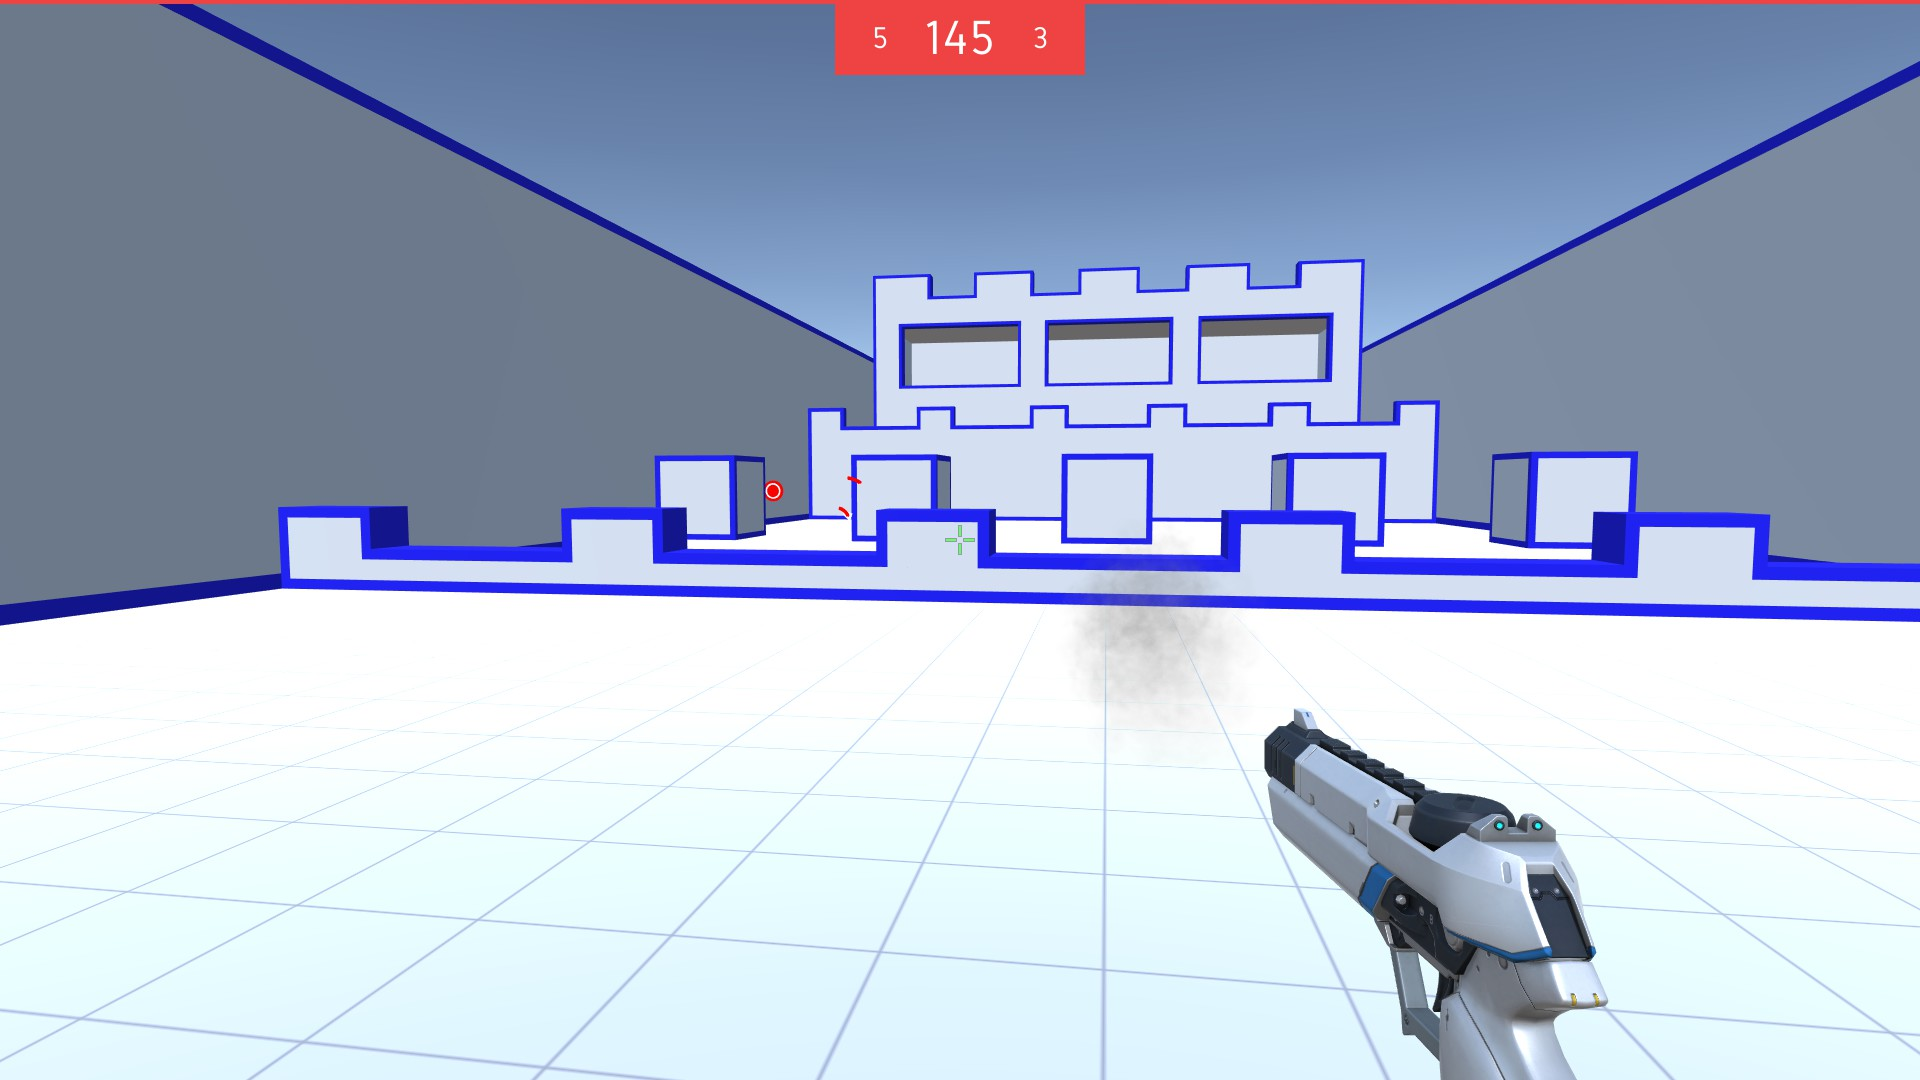target: (765, 479, 785, 502)
